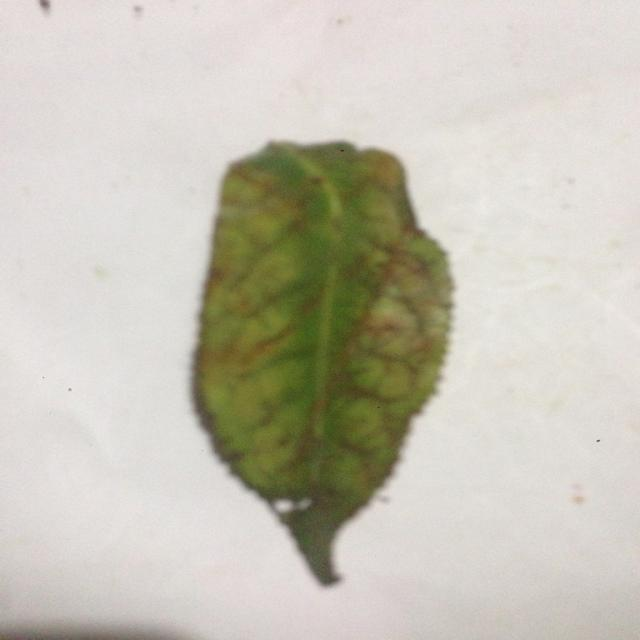Red Leaf Spot: (168, 127, 460, 594)
